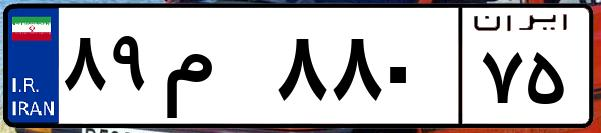0: (385, 28, 445, 110)
5: (525, 38, 570, 115)
7: (475, 38, 525, 113)
8: (270, 28, 330, 110), (330, 28, 385, 110), (57, 26, 110, 100)
9: (110, 28, 158, 98)
م: (158, 20, 270, 120)
